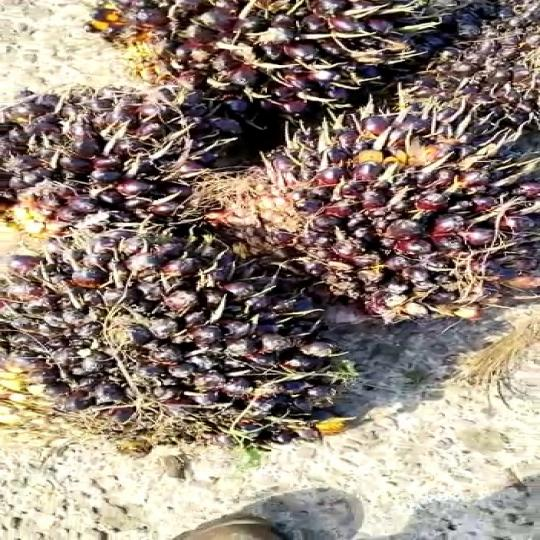kurang masak: (0, 194, 371, 468), (274, 68, 540, 323), (84, 0, 471, 122), (0, 79, 213, 244)
